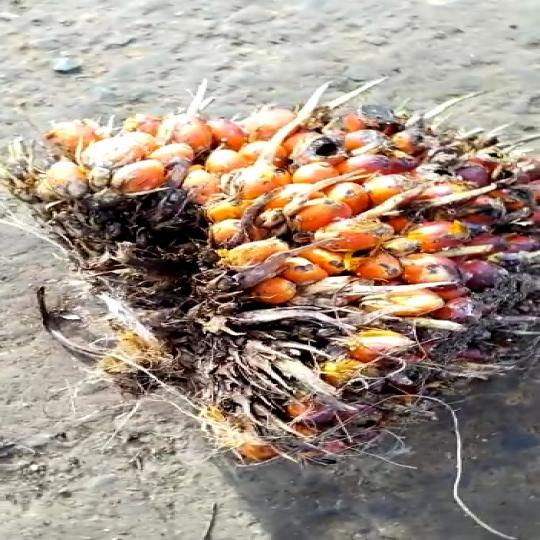masak: (0, 82, 540, 467)
